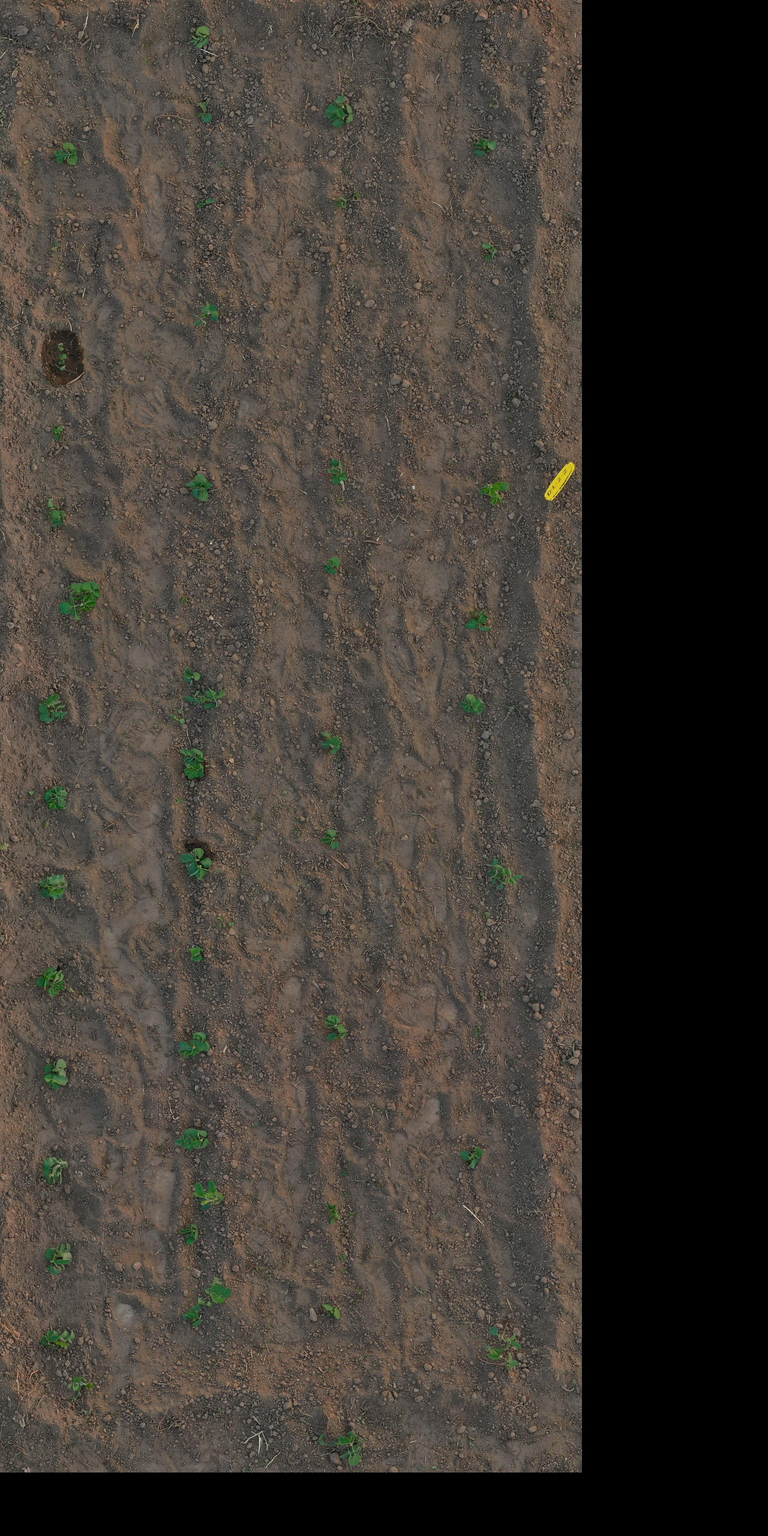s: (192, 1280, 232, 1312), (331, 1431, 363, 1467), (483, 1340, 518, 1370), (192, 1180, 225, 1210), (184, 688, 226, 710), (59, 595, 97, 619), (489, 1326, 522, 1352), (45, 1246, 72, 1275), (192, 300, 220, 327), (42, 1156, 68, 1184), (492, 867, 523, 890), (175, 1130, 209, 1150), (36, 967, 62, 991), (67, 581, 101, 598), (180, 848, 204, 872), (186, 26, 210, 49), (188, 857, 212, 880), (193, 474, 212, 502), (56, 142, 78, 166), (47, 874, 67, 900), (40, 704, 68, 722), (178, 1040, 206, 1058), (329, 108, 354, 128), (327, 462, 348, 485), (38, 693, 61, 714), (325, 94, 345, 118), (490, 482, 510, 506), (44, 786, 68, 806), (43, 1058, 67, 1078), (44, 1070, 68, 1090), (182, 1303, 202, 1327), (50, 1329, 75, 1348), (459, 693, 481, 713), (320, 828, 340, 850), (474, 138, 497, 157), (180, 748, 204, 766), (464, 616, 491, 632), (68, 1376, 95, 1392), (183, 1128, 200, 1152), (320, 736, 342, 754), (40, 1330, 59, 1350), (183, 762, 205, 779), (479, 482, 502, 498), (185, 480, 204, 499), (192, 1032, 210, 1052), (49, 510, 67, 529), (326, 1024, 346, 1041), (196, 102, 212, 123), (487, 858, 503, 879), (323, 556, 340, 575), (180, 1224, 199, 1241), (461, 1150, 478, 1169), (183, 666, 201, 683), (56, 1242, 72, 1261), (482, 242, 498, 260), (322, 1304, 340, 1320), (47, 498, 65, 512), (48, 982, 66, 996), (188, 946, 203, 962), (47, 800, 66, 811), (39, 879, 50, 898), (50, 972, 66, 985), (329, 1210, 342, 1226), (58, 354, 69, 371), (471, 1146, 484, 1160), (54, 424, 64, 442), (52, 1166, 62, 1184), (186, 1229, 197, 1245), (54, 147, 64, 164), (199, 198, 216, 208), (476, 697, 486, 714), (324, 1014, 341, 1024), (334, 197, 348, 209), (324, 1201, 336, 1214), (330, 458, 341, 472), (321, 731, 334, 742), (476, 610, 489, 621), (343, 102, 353, 114), (51, 240, 61, 250), (197, 200, 206, 208), (326, 1024, 338, 1030), (58, 342, 64, 351)
